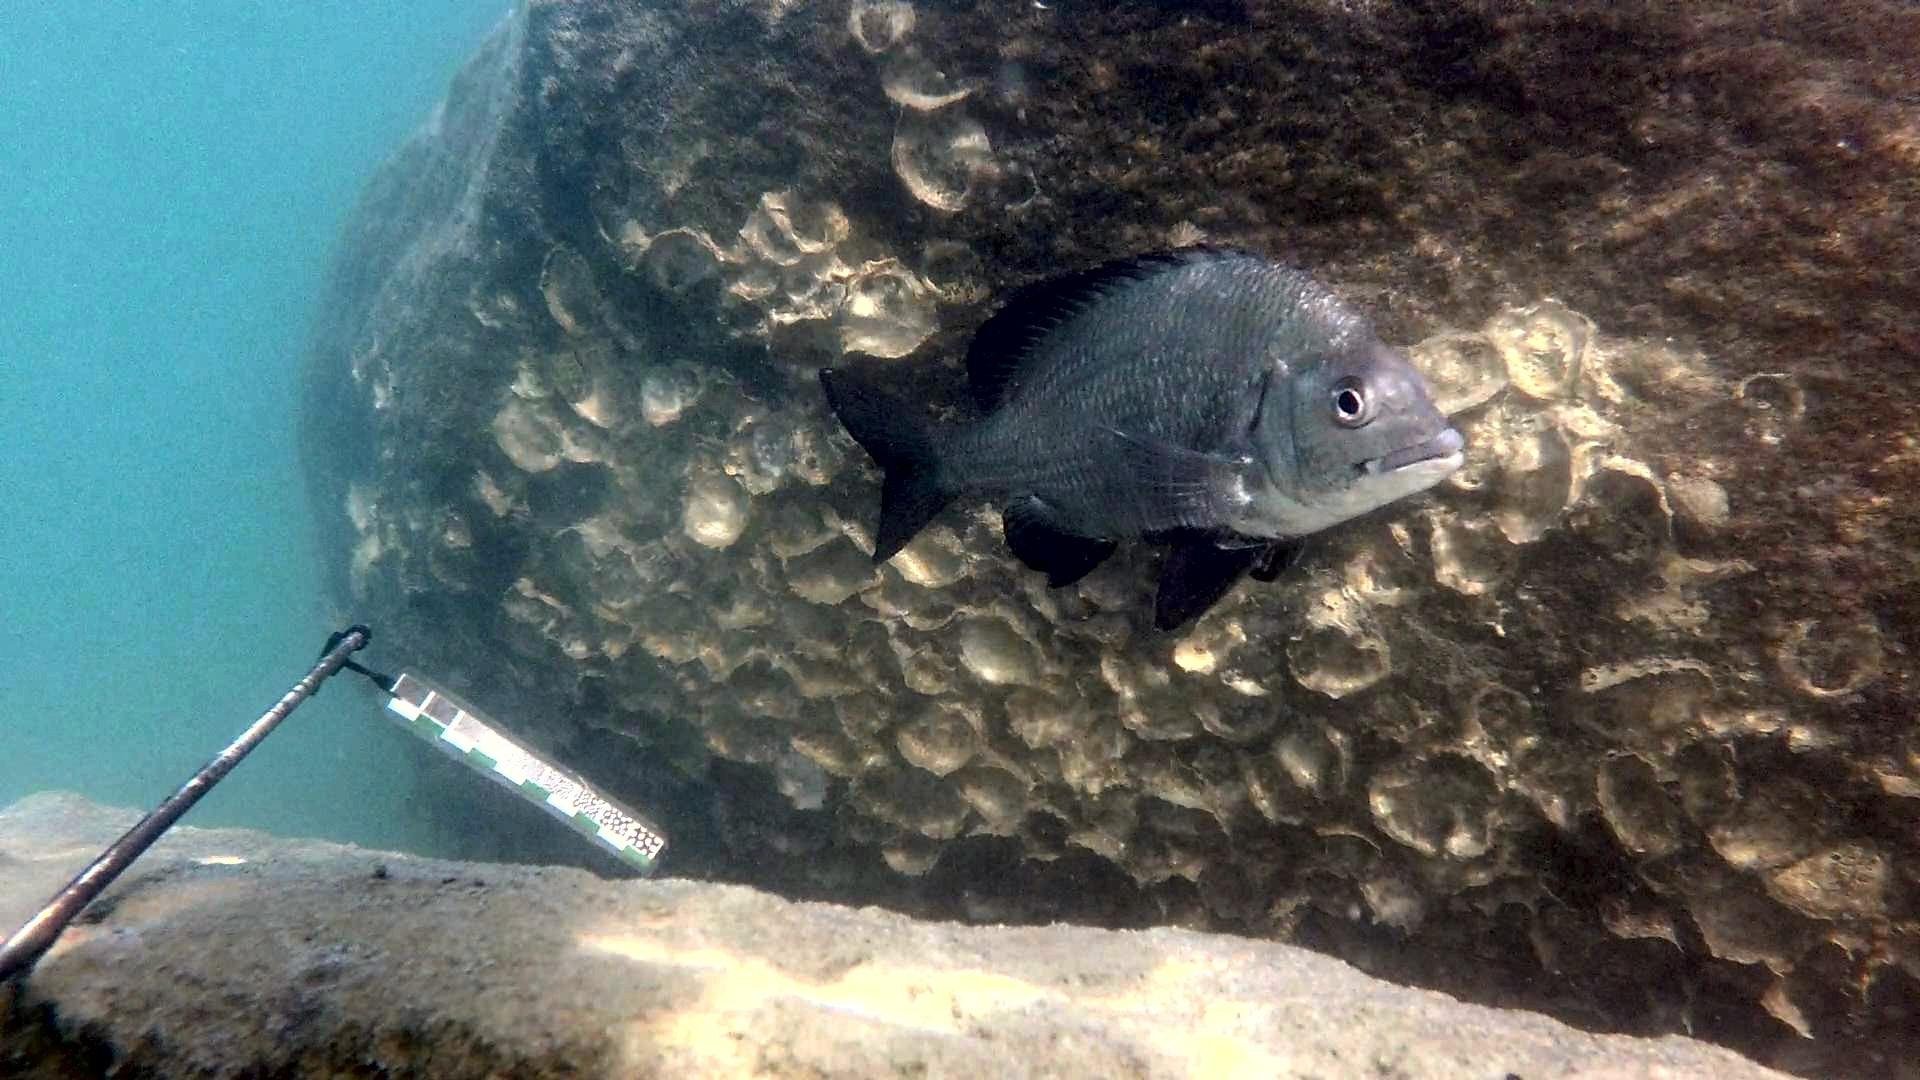acanthopagrus palmaris: (803, 233, 1484, 650)
